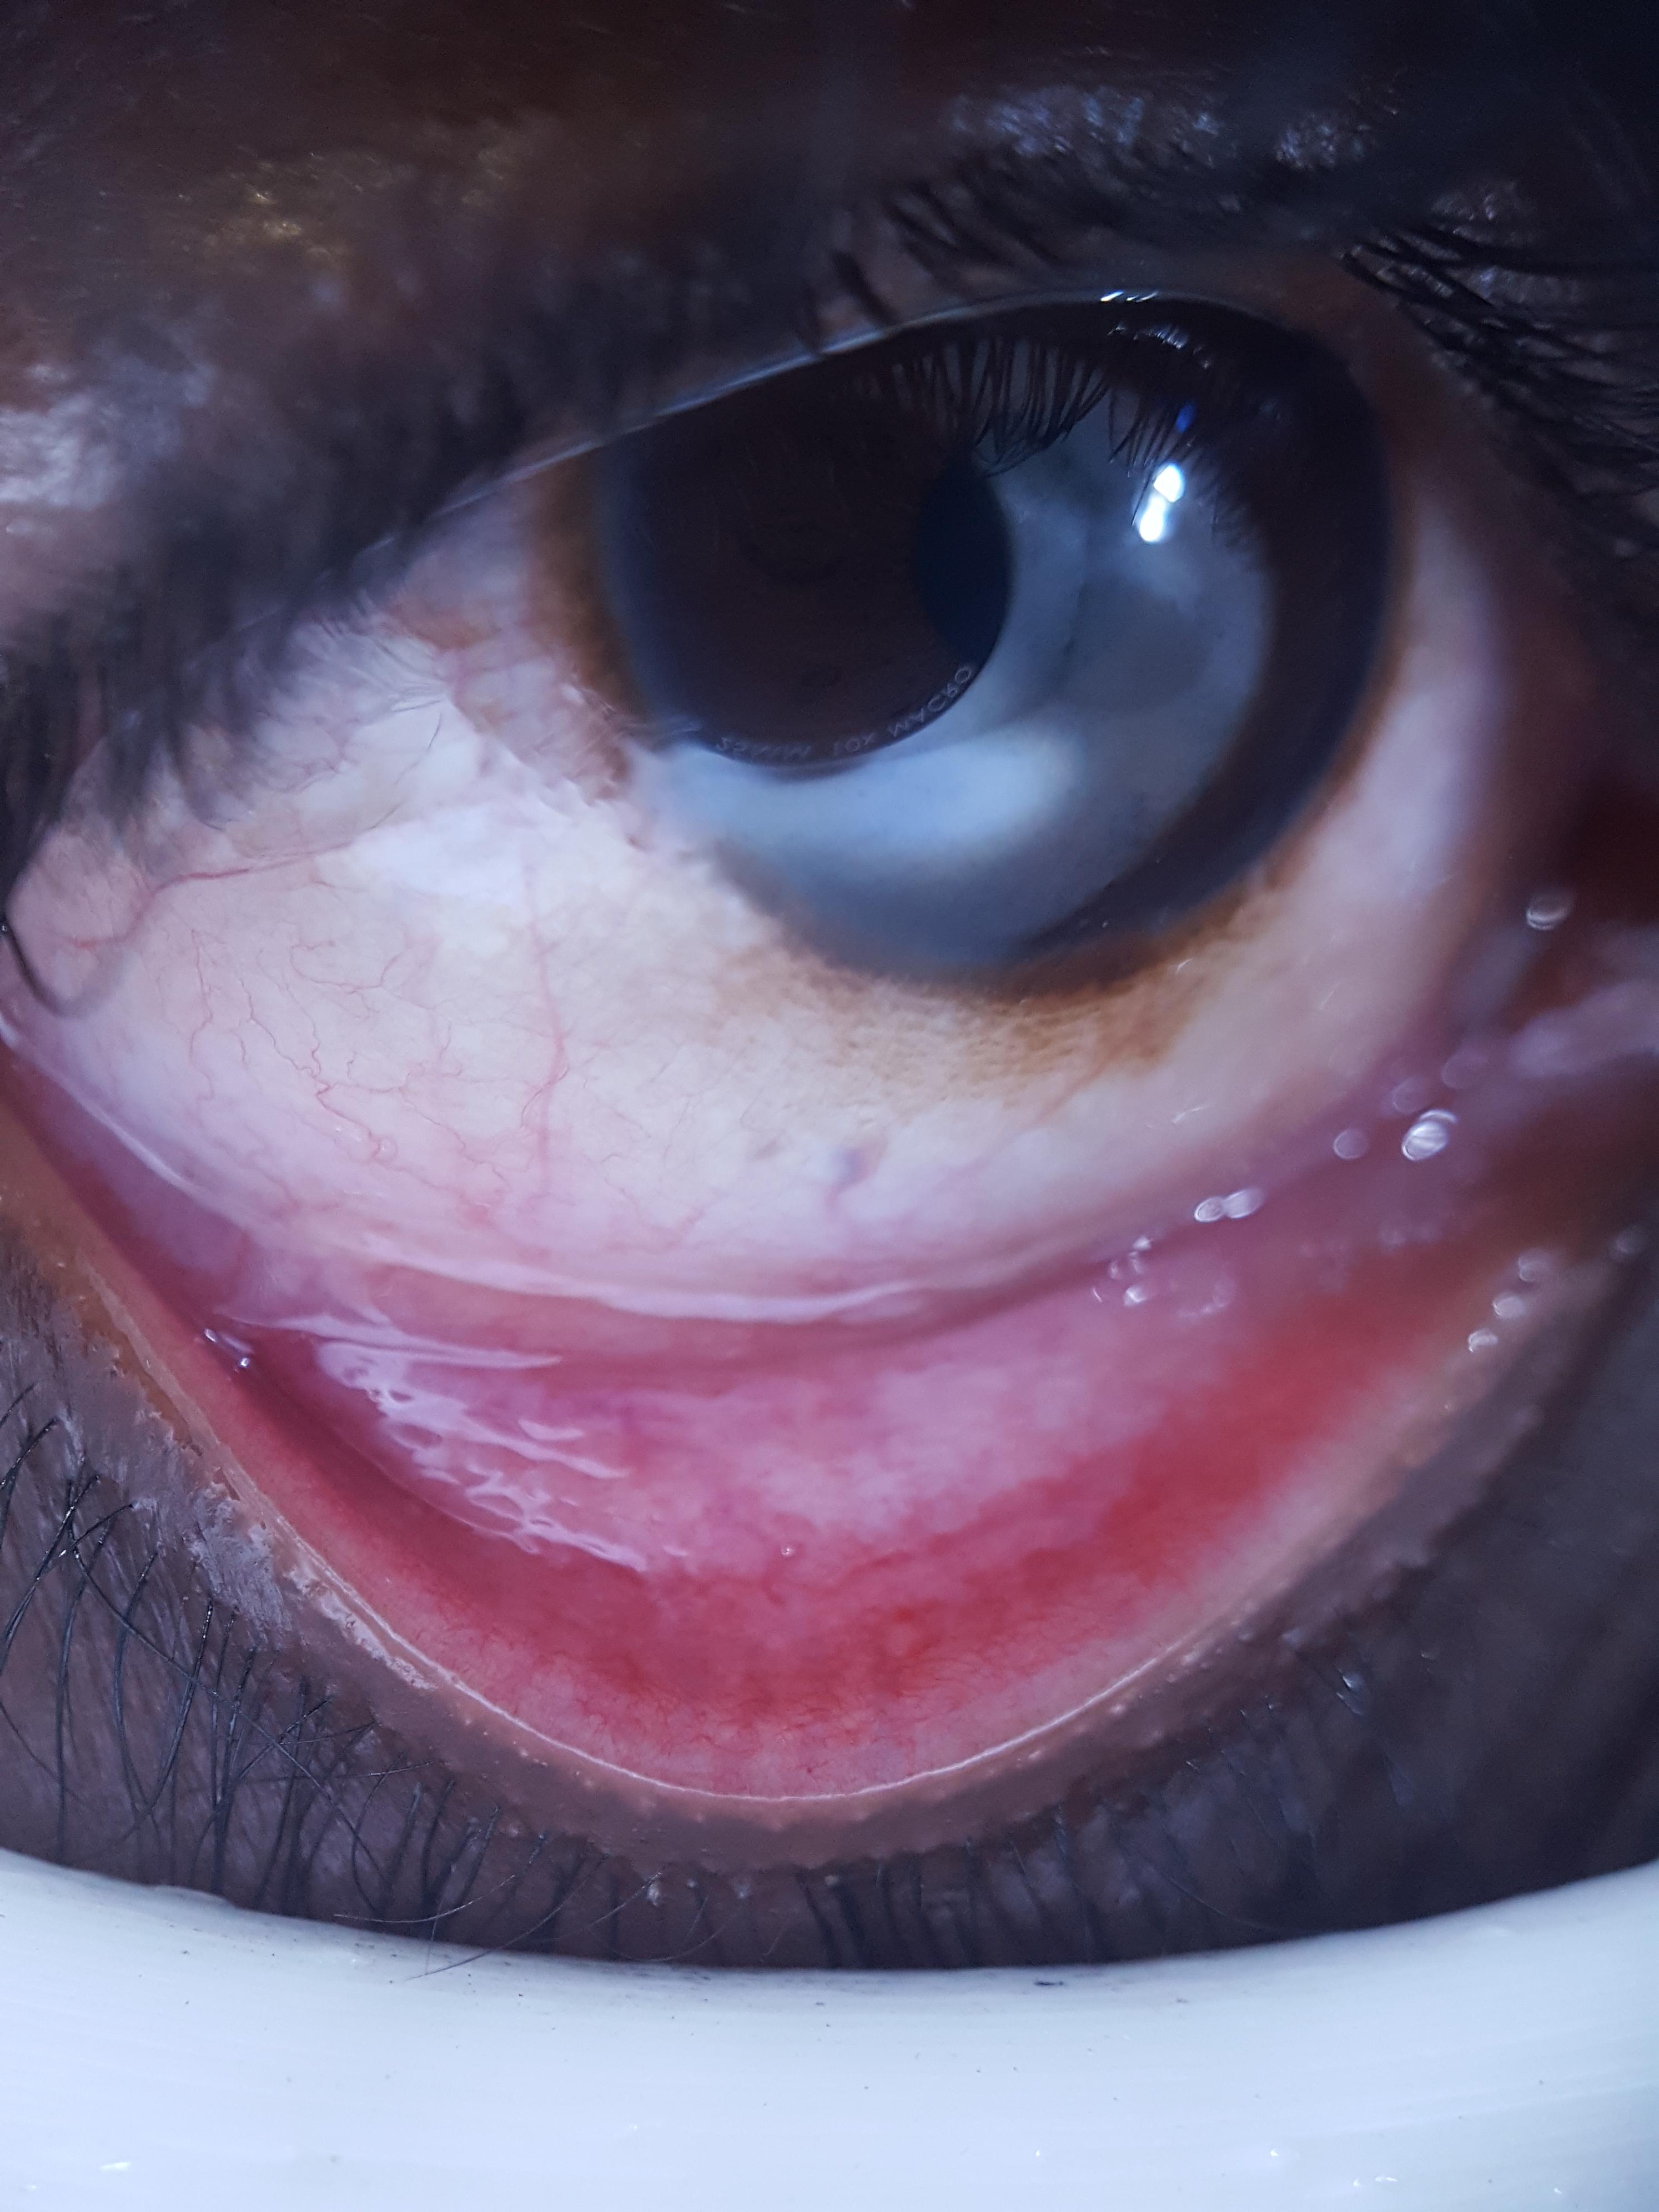forniceal: (0, 1003, 1516, 1656)
forniceal_palpebral: (0, 995, 1577, 1756)
palpebral: (0, 1066, 1572, 1749)
